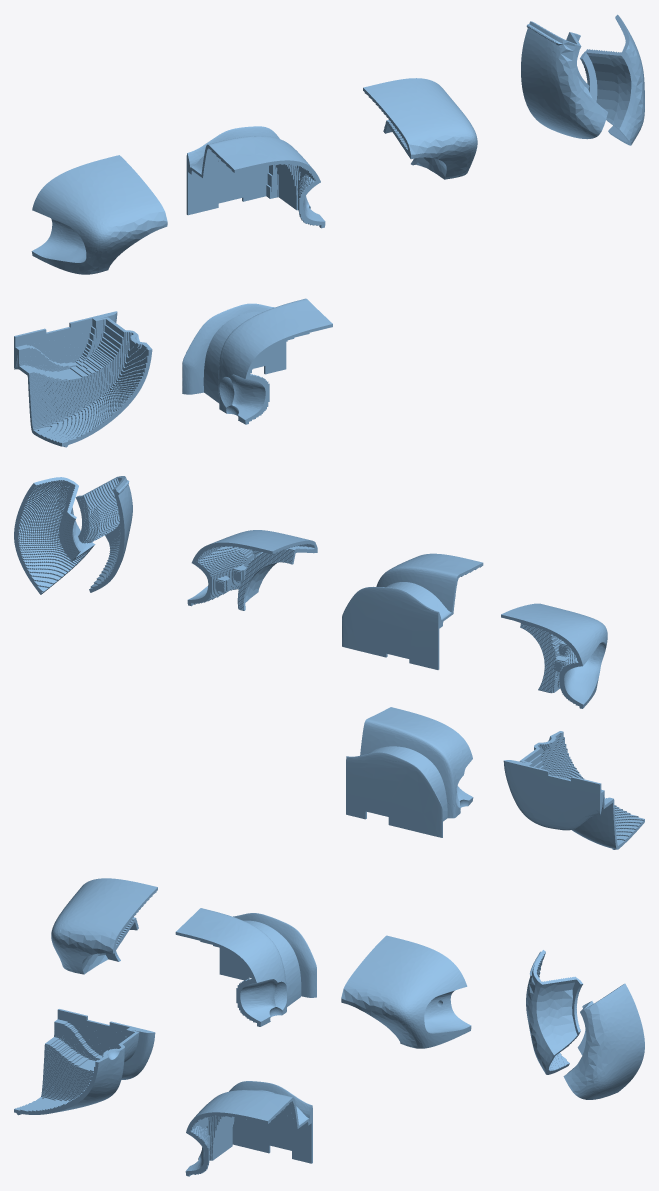
The model's file is legs.glb.
3 renders of one model, top to bottom at view 1: azimuth 30°, elevation 25°; view 2: azimuth 150°, elevation 25°; view 3: azimuth 330°, elevation 25°, orthographic. The views are drawn at different scales.
Visible parts, largest first — view 1: legs.stl_A_A_A_A.stl; view 2: legs.stl_A_A_A_A.stl; view 3: legs.stl_A_A_A_A.stl.
Part boxes in pixels (box(x1,y1,x2,y2)): legs.stl_A_A_A_A.stl: box(14, 14, 644, 447); legs.stl_A_A_A_A.stl: box(14, 476, 644, 849); legs.stl_A_A_A_A.stl: box(14, 878, 644, 1176).
Bounding box in the file's own units: 1535 × 674 × 205.
